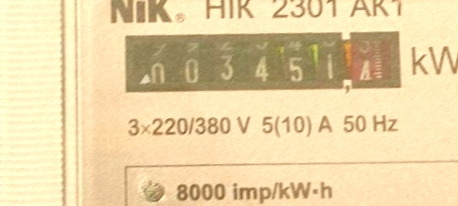0: (146, 58, 167, 86), (181, 56, 201, 85)
1: (321, 49, 338, 81)
3: (215, 50, 236, 82)
4: (250, 52, 272, 85), (353, 56, 375, 85)
5: (286, 52, 305, 84)
screen: (115, 13, 408, 112)
